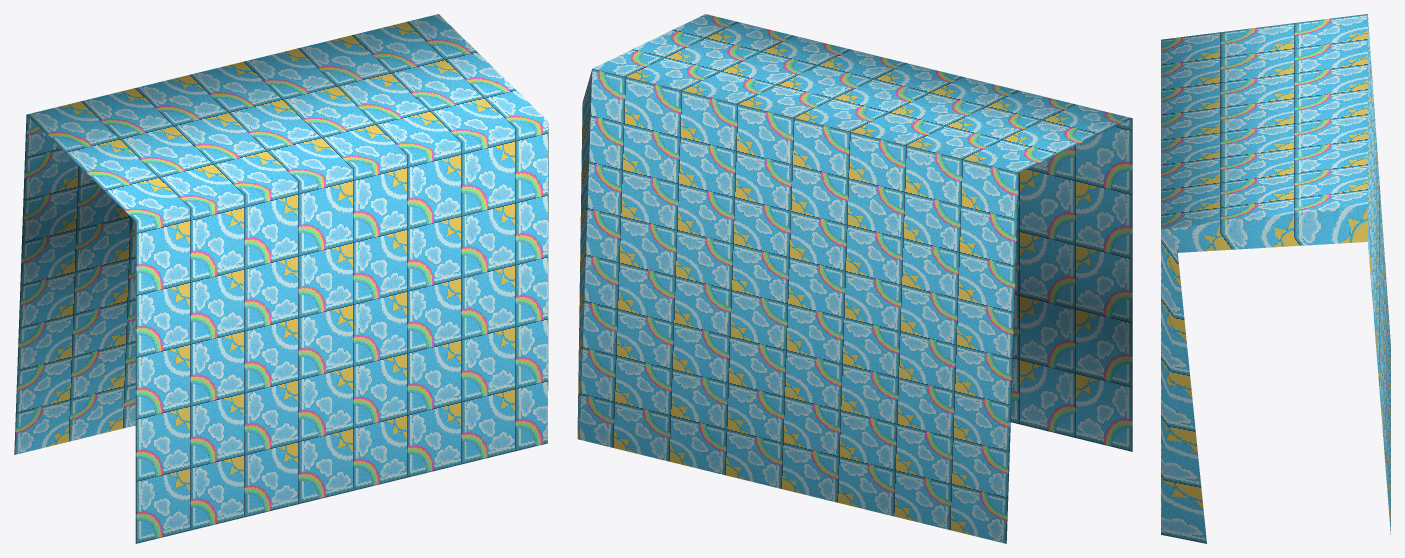
The model's file is 4664floor000_c.gltf.
The picture shows the model from 3 angles, left to right: view 1: azimuth 30°, elevation 25°; view 2: azimuth 150°, elevation 25°; view 3: azimuth 270°, elevation 25°; orthographic projection. The views are drawn at different scales.
Parts seen in each view (by area): view 1: 4664floor000_c; view 2: 4664floor000_c; view 3: 4664floor000_c.
Boxes of the visible parts, bbox=[...] form: 4664floor000_c: bbox=[14, 14, 548, 543]; 4664floor000_c: bbox=[577, 14, 1132, 543]; 4664floor000_c: bbox=[1161, 14, 1390, 543].
Size of the model in its own units: 2.05 by 1.59 by 1.
Materials: 1 (1 with a texture image).
